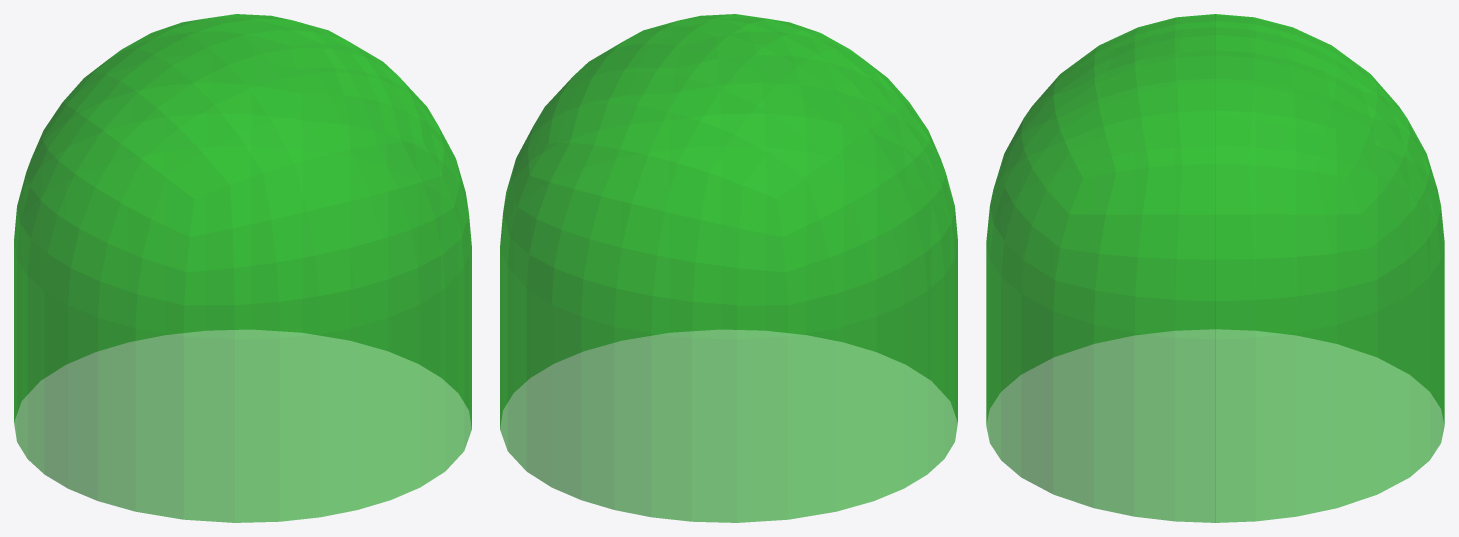
File: green_bulb._transforms.obj
The picture shows the model from 3 angles, left to right: view 1: azimuth 30°, elevation 25°; view 2: azimuth 150°, elevation 25°; view 3: azimuth 270°, elevation 25°; orthographic projection.
Parts seen in each view (by area): view 1: Green_Light_Bulb; view 2: Green_Light_Bulb; view 3: Green_Light_Bulb.
Part boxes in pixels (bbox=[...]): Green_Light_Bulb: bbox=[14, 14, 471, 522]; Green_Light_Bulb: bbox=[500, 14, 957, 522]; Green_Light_Bulb: bbox=[986, 14, 1444, 522].
Bounding box in the file's own units: 0.1269 × 0.1195 × 0.1269.
